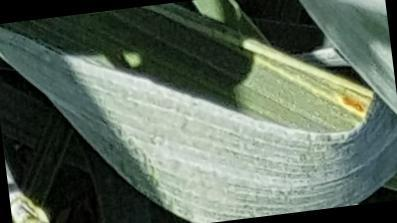Wheat: (154, 75, 321, 198), (23, 24, 196, 75), (328, 87, 392, 174), (76, 78, 150, 131), (337, 7, 383, 51), (105, 135, 148, 162)
